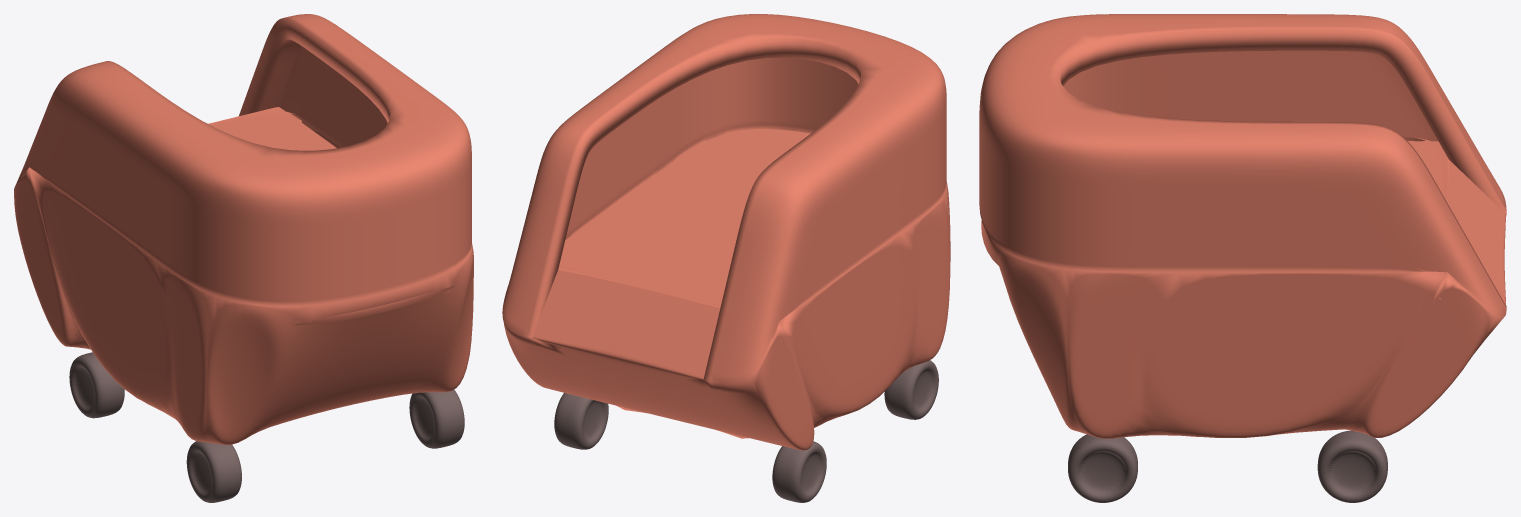
Rendered from costerseat.glb.
The picture shows the model from 3 angles, left to right: view 1: azimuth 30°, elevation 25°; view 2: azimuth 150°, elevation 25°; view 3: azimuth 270°, elevation 25°; orthographic projection. The views are drawn at different scales.
Parts seen in each view (by area): view 1: Cube, BézierCircle, BézierCircle.001, BézierCircle.003; view 2: Cube, BézierCircle.003, BézierCircle.002, BézierCircle; view 3: Cube, BézierCircle.002, BézierCircle.001.
Boxes of the visible parts, left/top/right/bottom form: Cube: left=14, top=14, right=473, bottom=444; BézierCircle: left=186, top=441, right=241, bottom=502; BézierCircle.001: left=409, top=389, right=464, bottom=448; BézierCircle.003: left=69, top=352, right=124, bottom=418; Cube: left=502, top=14, right=950, bottom=450; BézierCircle.003: left=772, top=441, right=826, bottom=502; BézierCircle.002: left=554, top=393, right=608, bottom=449; BézierCircle: left=884, top=360, right=938, bottom=419; Cube: left=979, top=14, right=1506, bottom=438; BézierCircle.002: left=1317, top=430, right=1387, bottom=502; BézierCircle.001: left=1068, top=434, right=1137, bottom=502.
Size of the model in its own units: 2.02 by 2.42 by 3.16.
